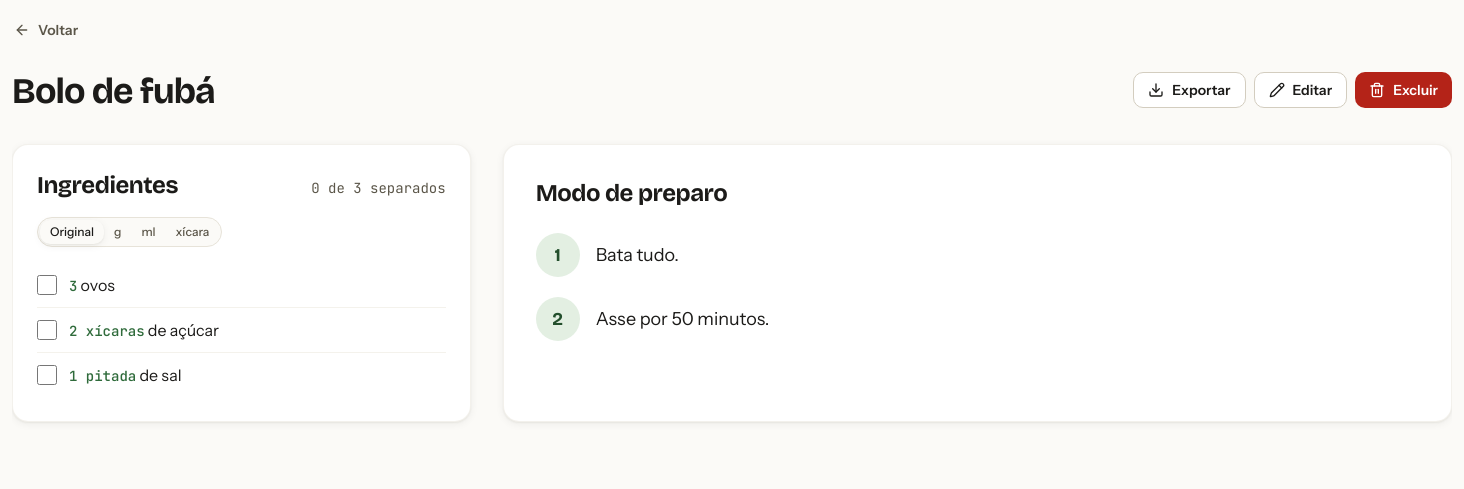
Test: RecipeDetailPage ingredient checklist › clears every check with "Desmarcar tudo"
Expected: the heading "Ingredientes" is shown, [37,169,178,201]
Expected: the button "Desmarcar tudo" is not shown
Click the checkbox labelled "1 pitada de sal" at (47, 375), box [37,365,57,385]
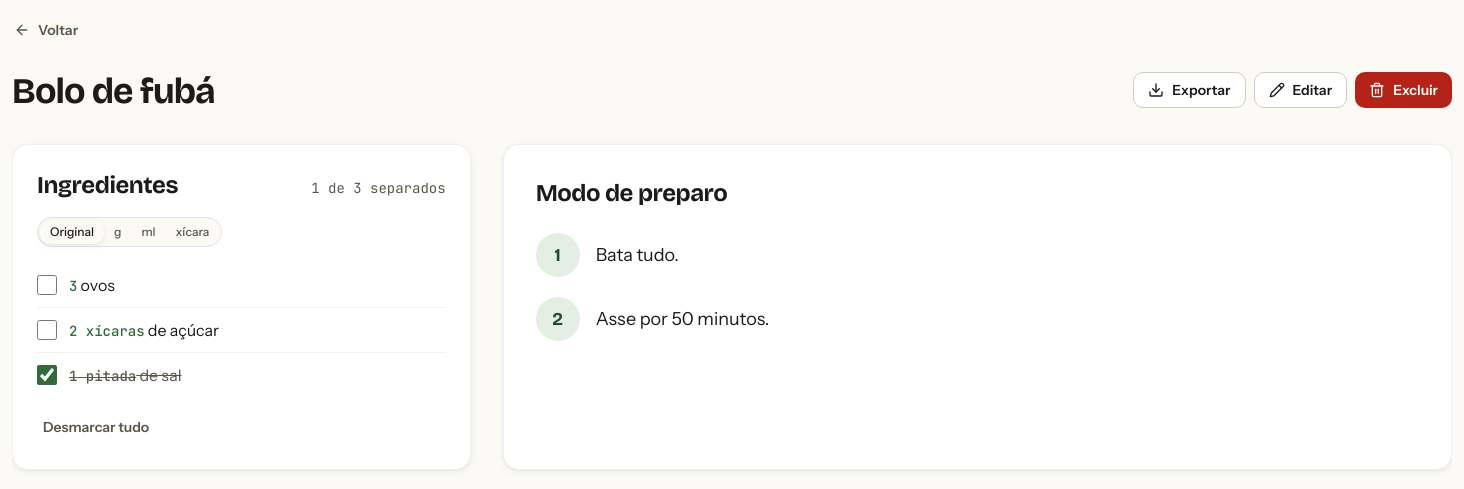
Click the button "Desmarcar tudo" at (96, 427), box [29,409,163,445]
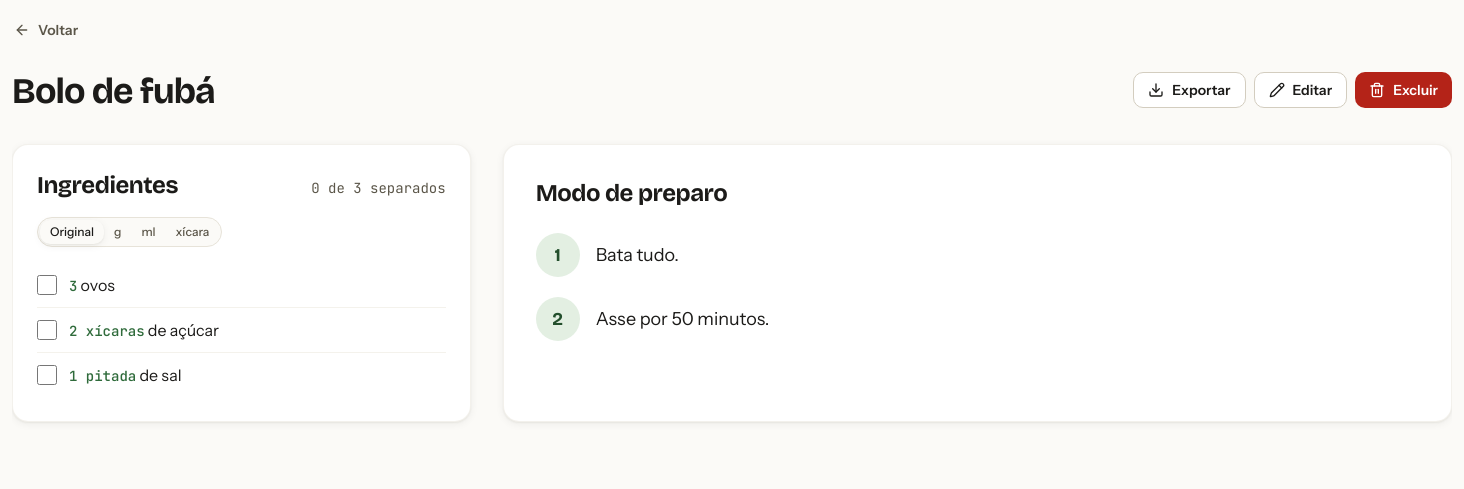
Result: the checkbox labelled "1 pitada de sal" is not checked at [37,365,57,385]
Result: the text "0 de 3 separados" is shown at [311,178,446,198]
